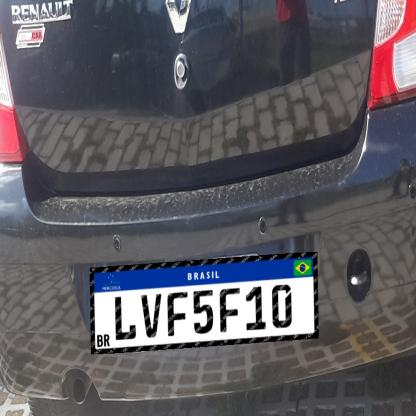PlacaM: (89, 252, 318, 354)
